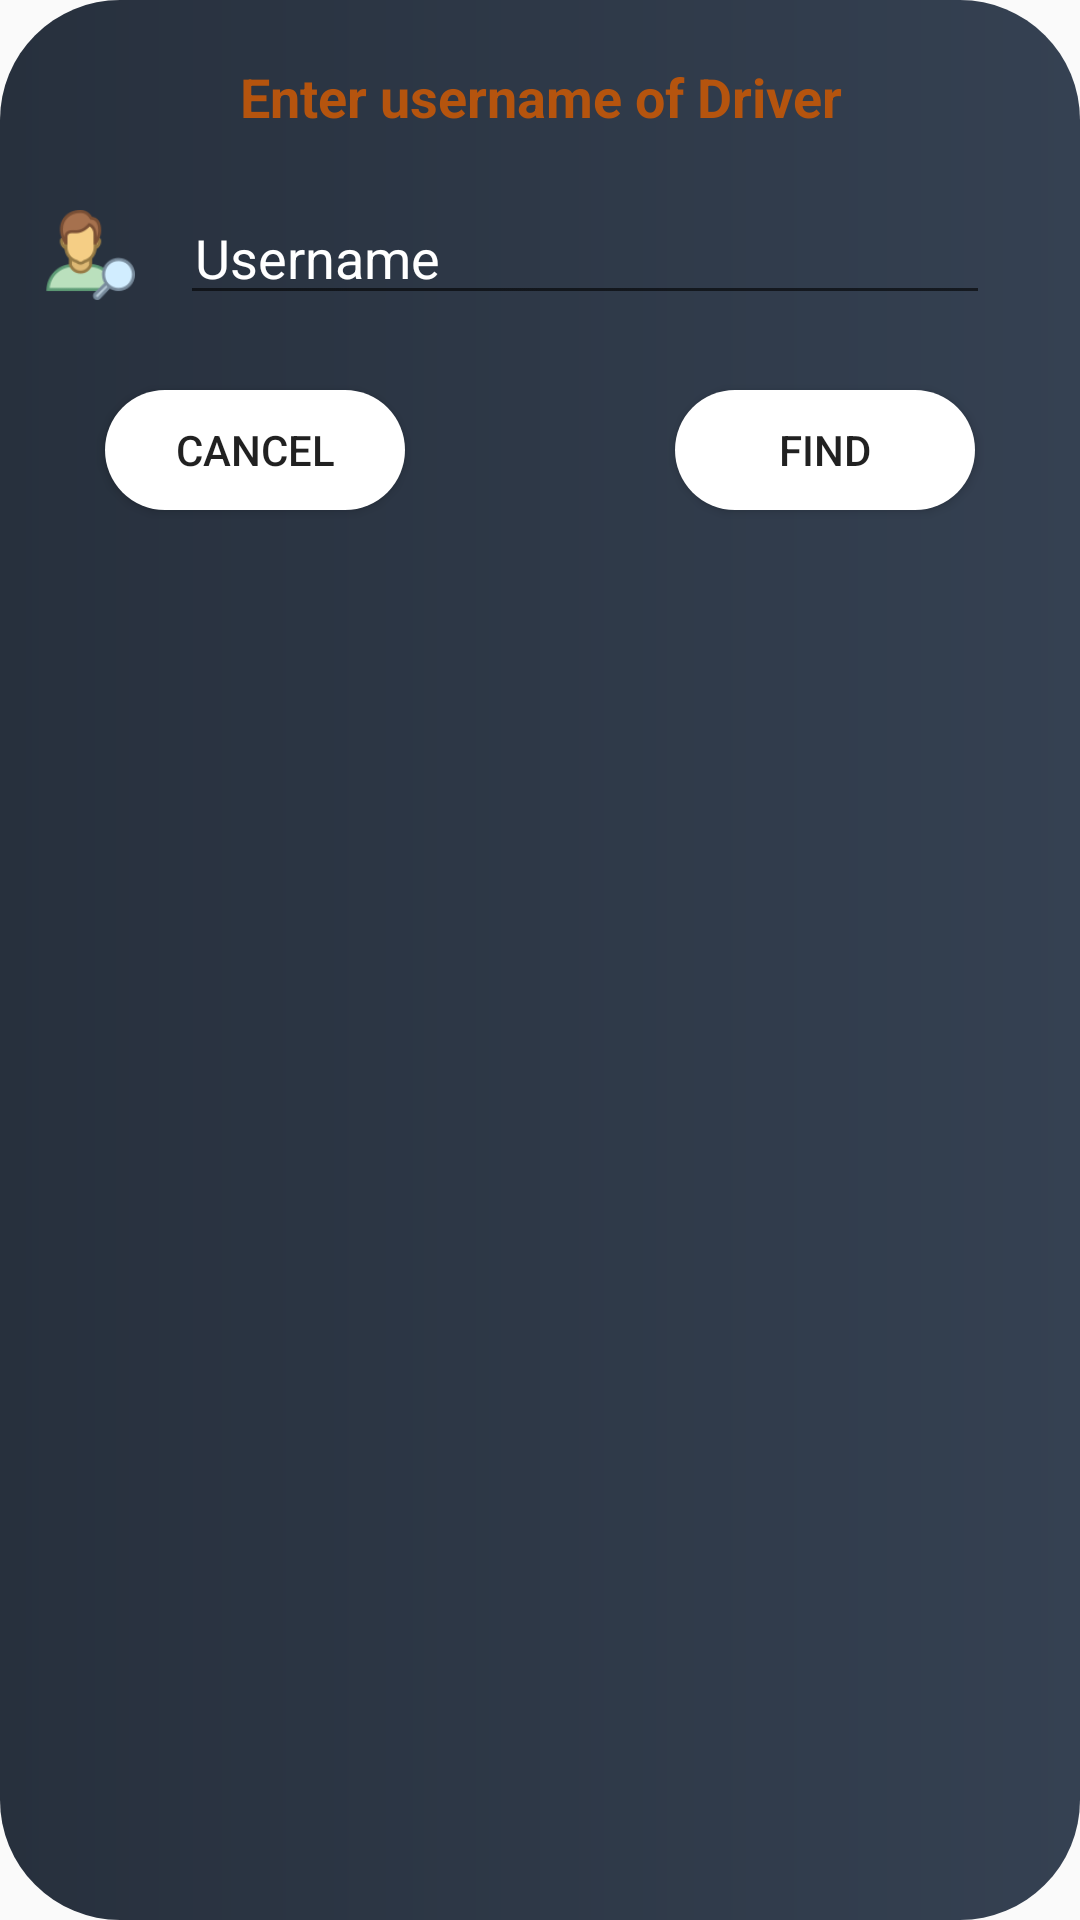

Screen size 1080 × 1920. Icon name, then its box in pixels as (x1, y1, x2, y2):
search: (46, 210, 135, 300)
